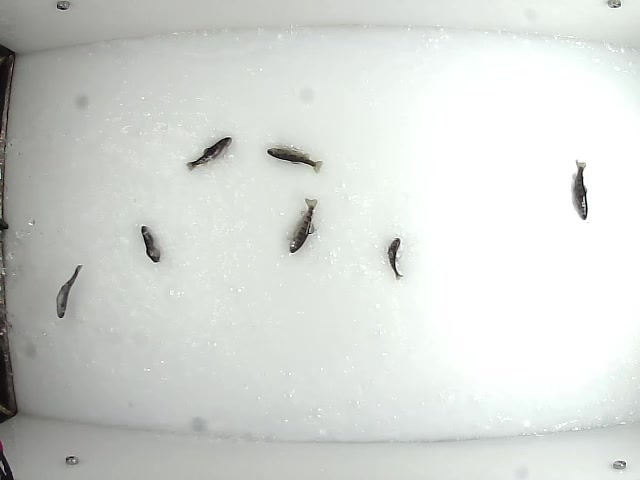fish: (286, 194, 321, 255), (183, 135, 232, 173), (264, 145, 325, 175), (53, 262, 84, 321), (570, 159, 591, 221), (139, 224, 161, 265), (386, 235, 405, 281)
